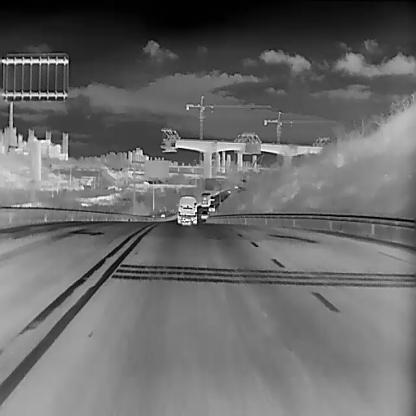car: (177, 196, 196, 225), (201, 192, 210, 206), (200, 210, 208, 220), (208, 204, 215, 211)
